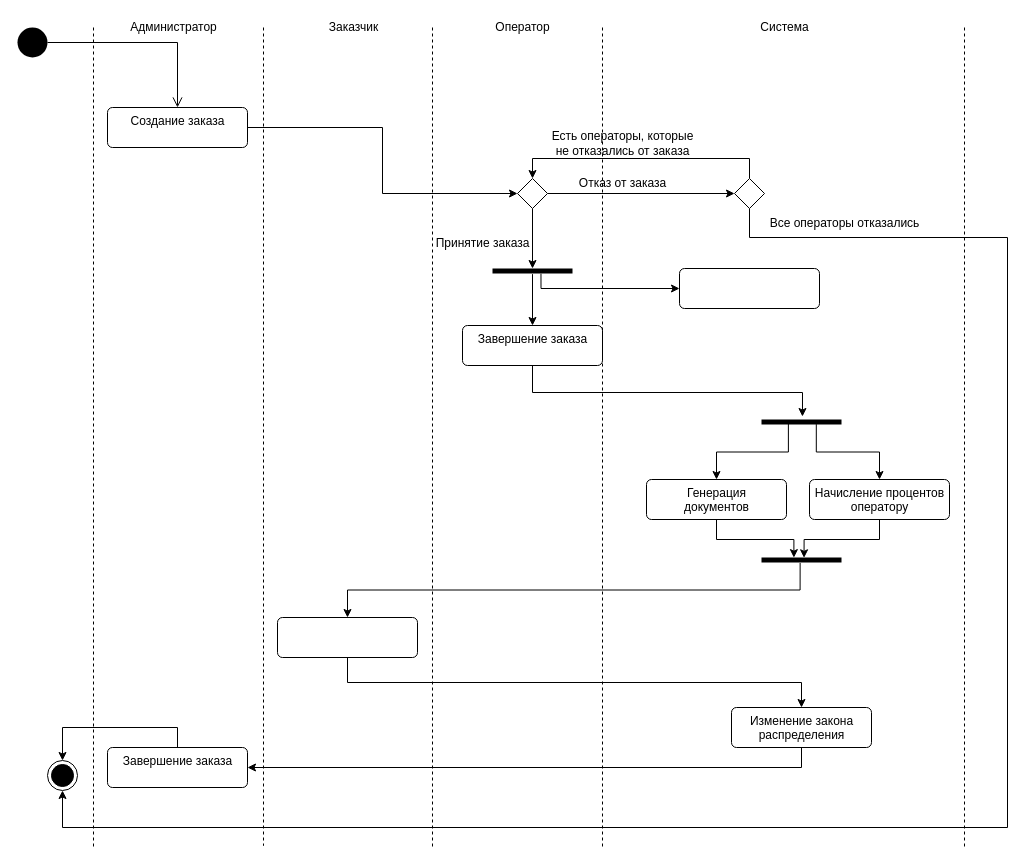
This 1033x866 diagram has some shape labels left out. Each missing label, with the centre of its shape:
"Генерация талона" belongs at (749,288).
"Оценивание качества работы" belongs at (347,637).
